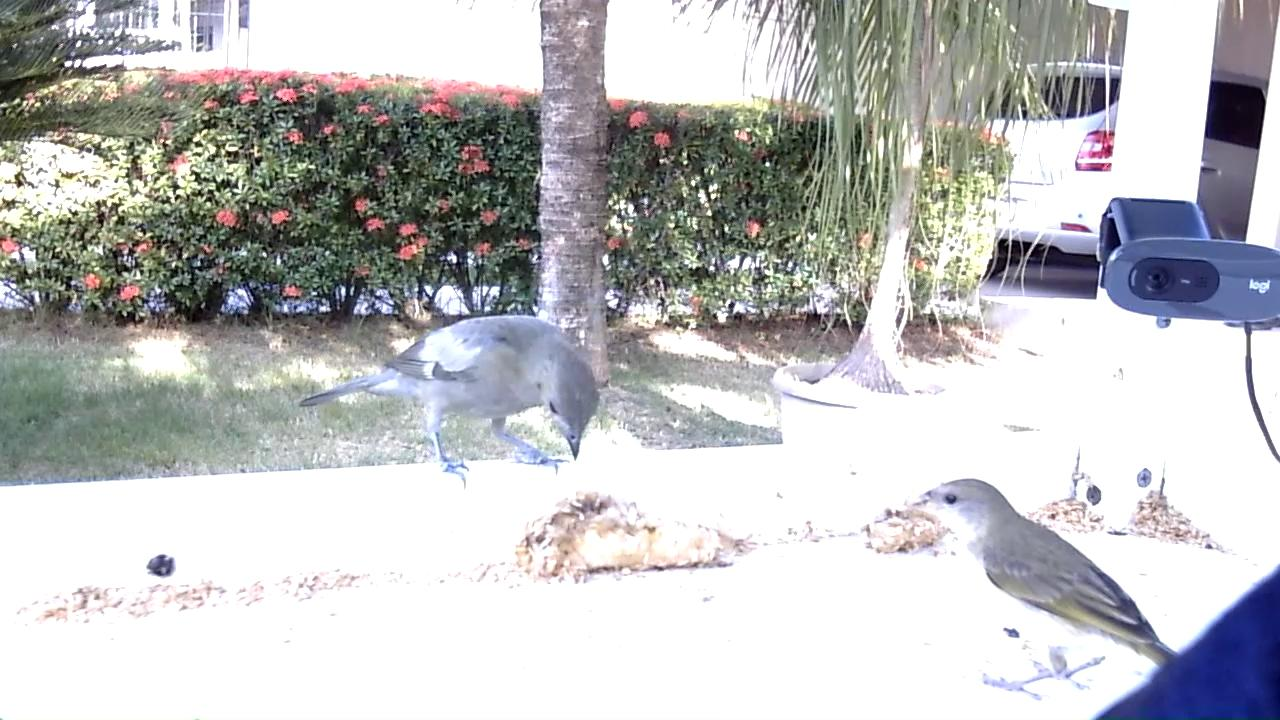canario_do_amazonas: (909, 475, 1178, 704)
sanhaco_do_coqueiro: (299, 314, 603, 492)
